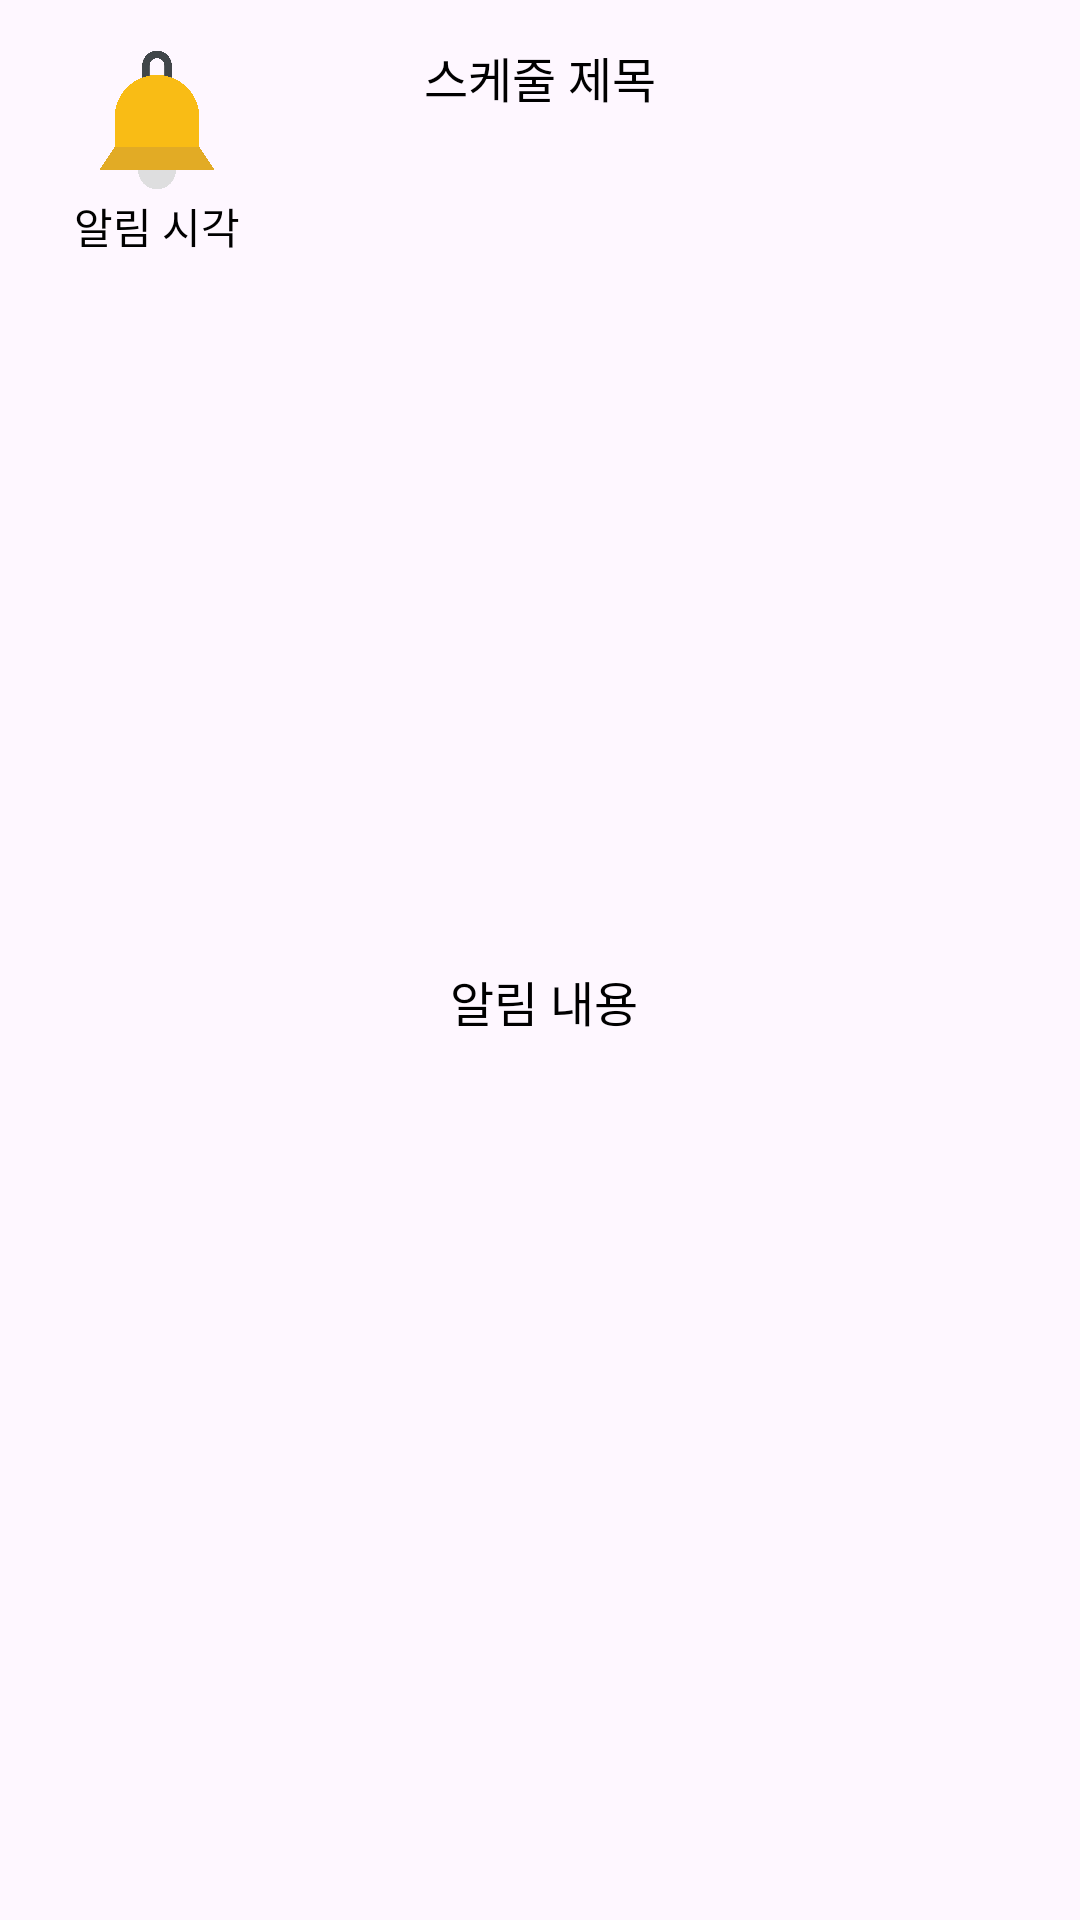

Icons on this 1080×1920 Android screen, each with the point to tap as (x,y):
bell: (157,120)
